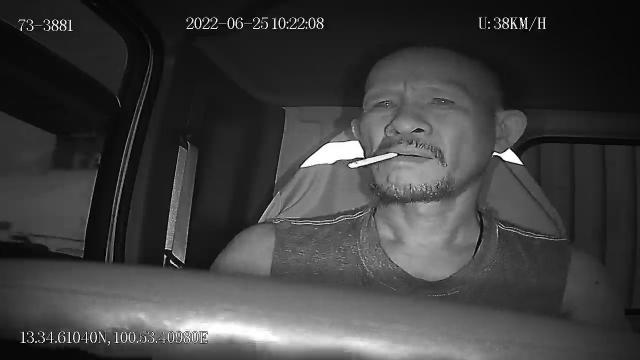SafeDriving: (422, 86, 463, 115), (366, 91, 404, 119)
Smoking: (348, 151, 398, 169)
